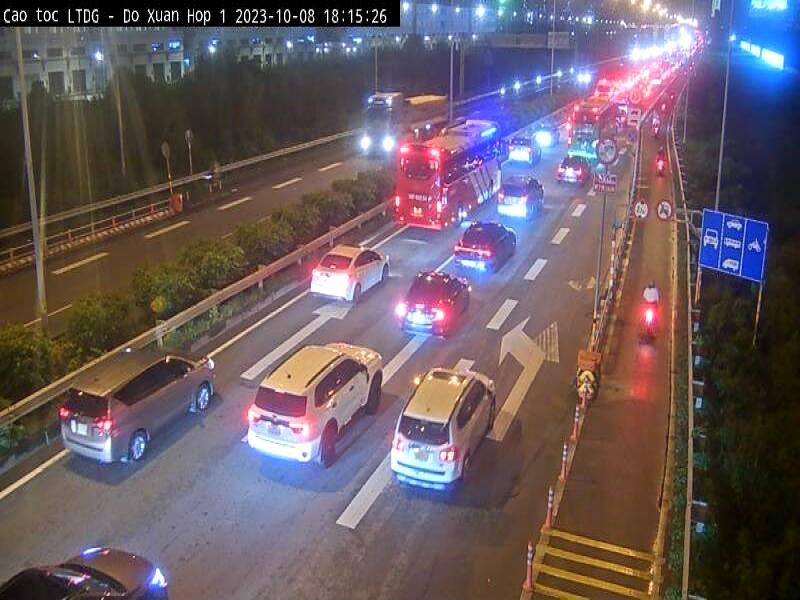bus: (393, 113, 503, 232), (362, 86, 450, 162)
car: (62, 331, 217, 473), (244, 329, 386, 471), (387, 365, 498, 495), (0, 545, 169, 600), (310, 238, 390, 306), (396, 271, 470, 342), (451, 218, 521, 279), (497, 168, 542, 225), (508, 128, 540, 172), (555, 157, 589, 194)
motorcycle: (638, 306, 661, 345)
